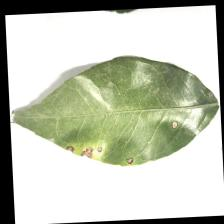canker: (66, 134, 141, 176)
